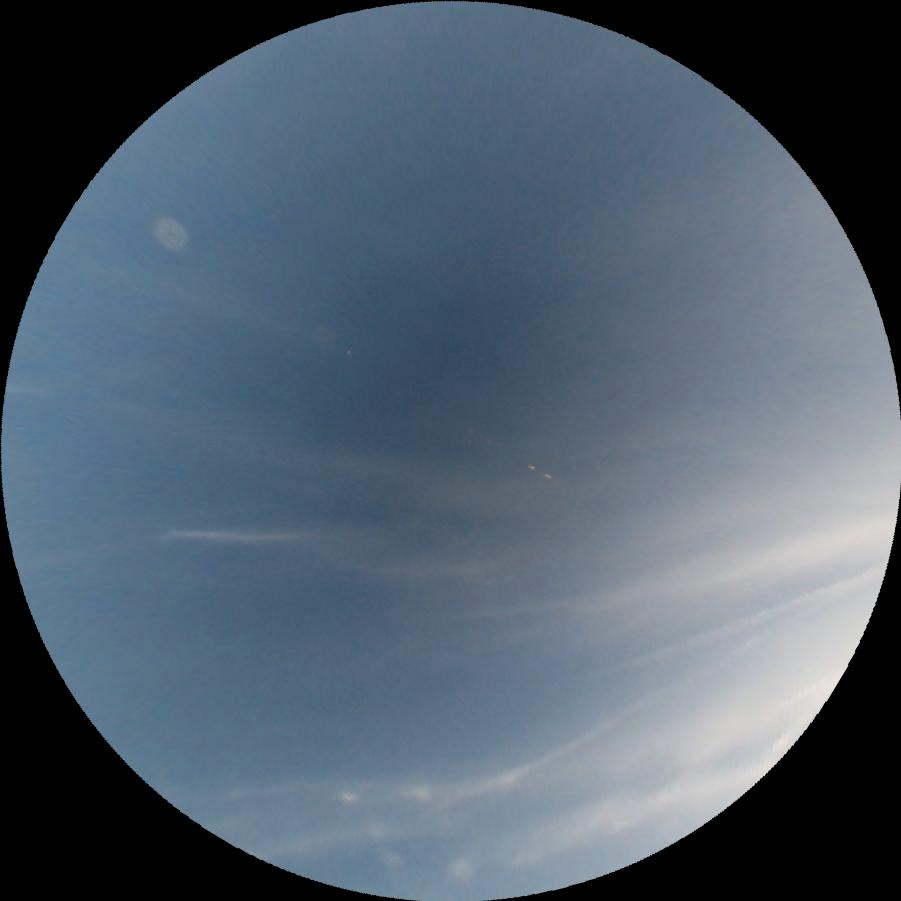contrail old: (581, 562, 887, 684)
